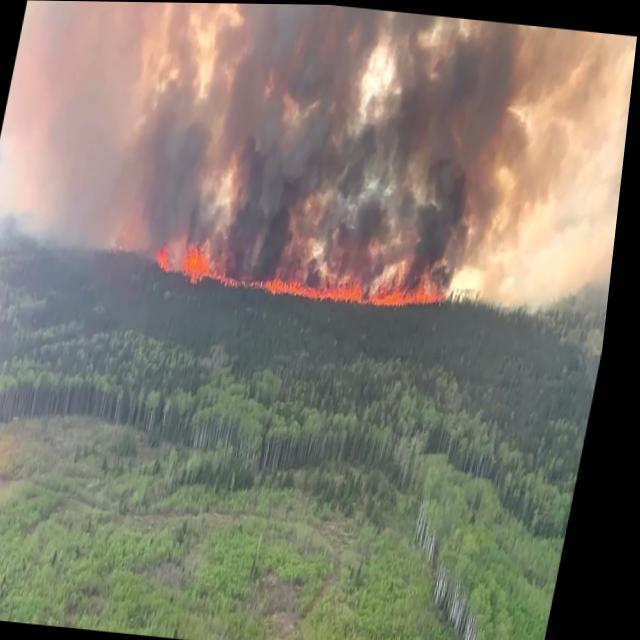Fire: (151, 223, 468, 325)
